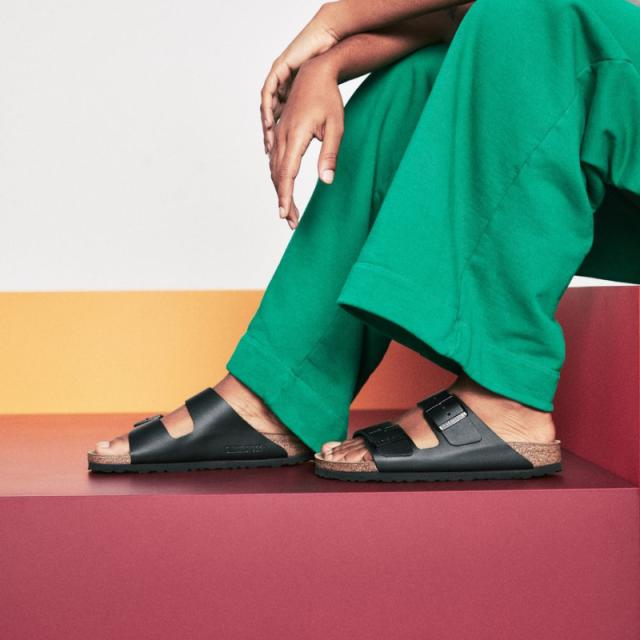Sandals: (303, 374, 578, 496), (86, 376, 335, 474)
